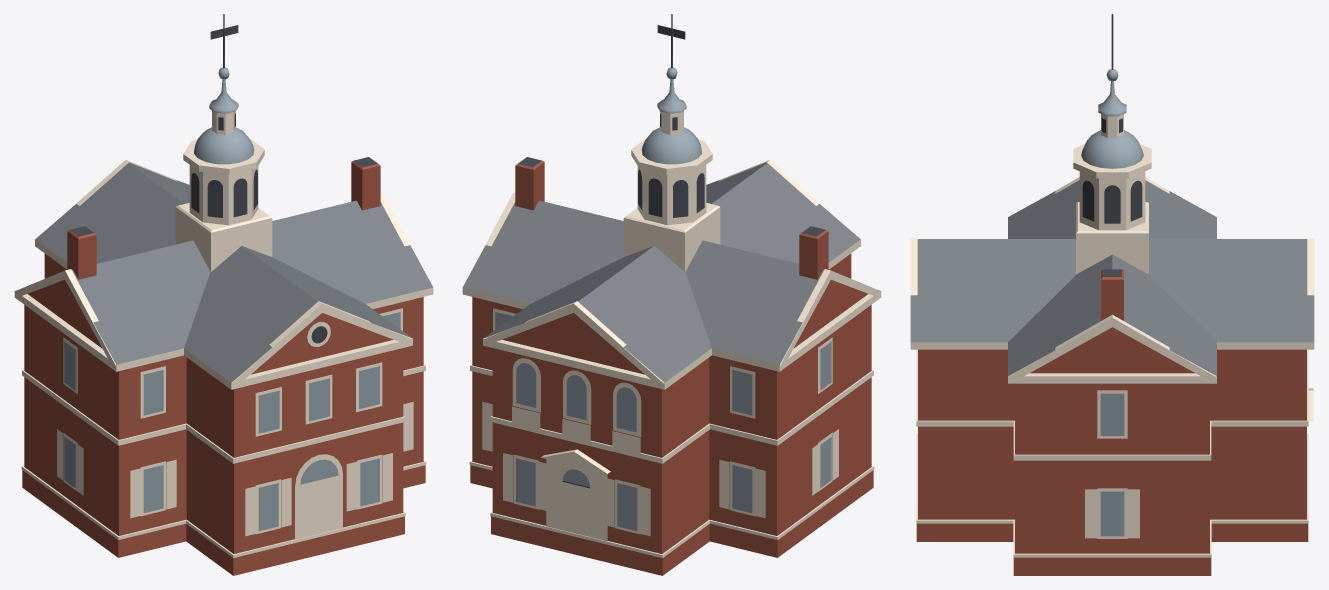
Rendered from phl-carpenters-hall.glb.
3 views of the same model, side by side, from view 1: azimuth 30°, elevation 25°; view 2: azimuth 150°, elevation 25°; view 3: azimuth 270°, elevation 25° (orthographic). The views are drawn at different scales.
Visible parts, largest first — view 1: Carpenters' Hall; view 2: Carpenters' Hall; view 3: Carpenters' Hall.
Part boxes in pixels (<box>): Carpenters' Hall: <box>14,14,433,575</box>; Carpenters' Hall: <box>462,14,881,575</box>; Carpenters' Hall: <box>910,14,1314,575</box>.
Bounding box in the file's own units: 16.6 × 23.52 × 17.78.
